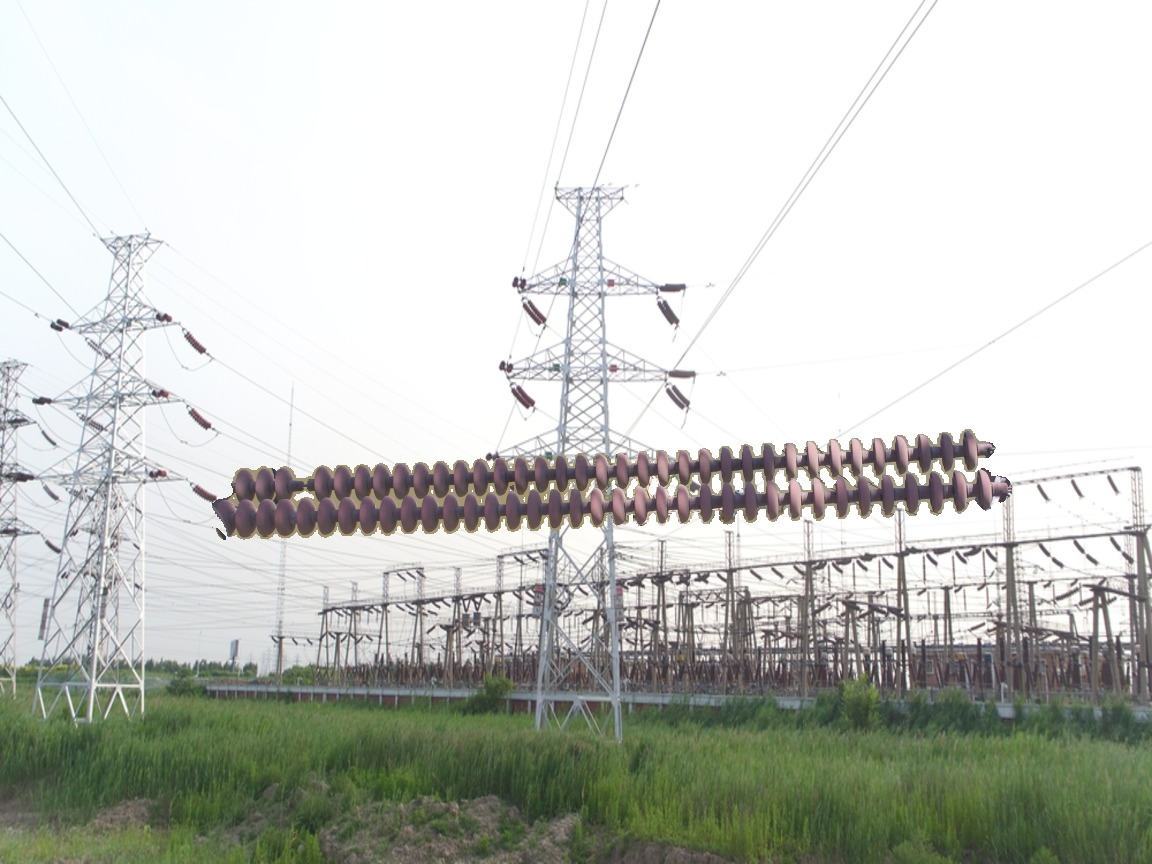defect: (272, 461, 332, 501)
